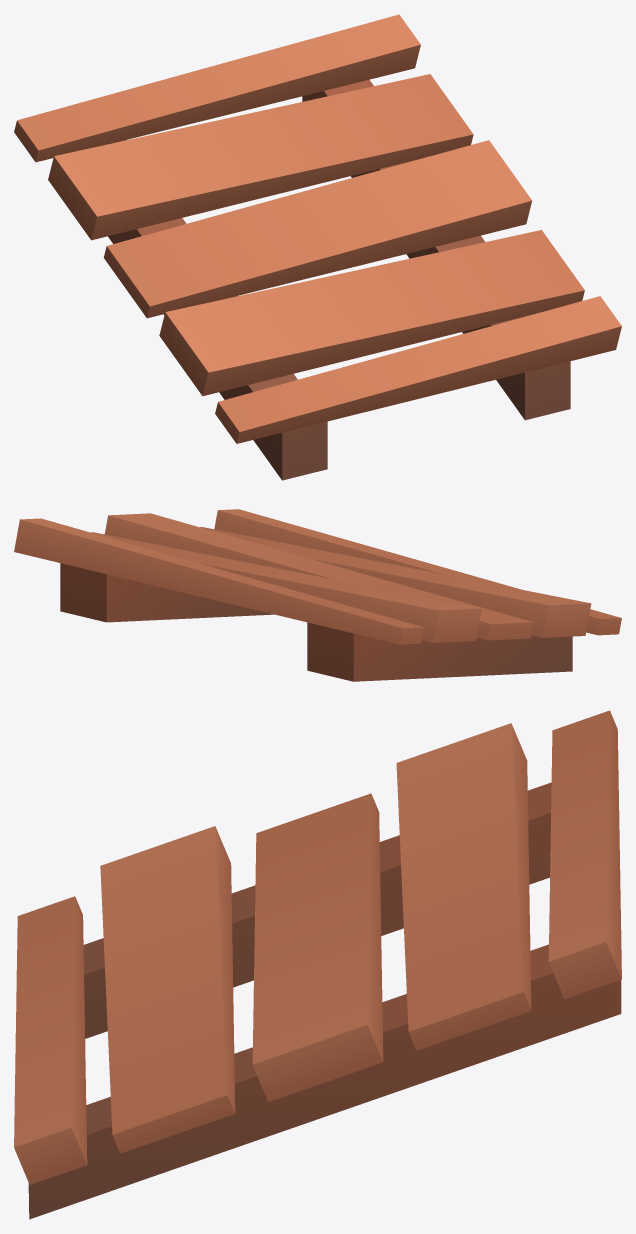
The model's file is n5_n5_platform-ramp_lev5.glb.
The picture shows the model from 3 angles, top to bottom: view 1: azimuth 30°, elevation 25°; view 2: azimuth 150°, elevation 25°; view 3: azimuth 270°, elevation 25°; orthographic projection. The views are drawn at different scales.
Visible parts, largest first — view 1: n5_n5_platform-ramp_lev5; view 2: n5_n5_platform-ramp_lev5; view 3: n5_n5_platform-ramp_lev5.
Part boxes in pixels (x1,y1,x2,y2): n5_n5_platform-ramp_lev5: [14, 14, 621, 480]; n5_n5_platform-ramp_lev5: [14, 509, 621, 681]; n5_n5_platform-ramp_lev5: [14, 710, 621, 1219].
Bounding box in the file's own units: 1.72 × 0.9717 × 1.75.
1 material, 1 textured.
